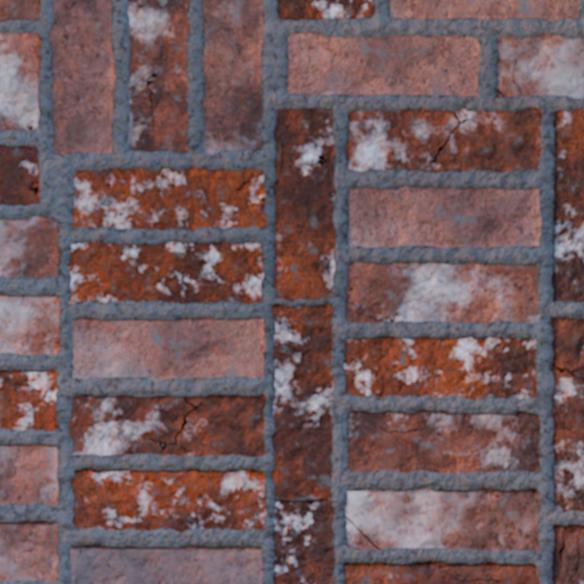brick: (272, 304, 333, 583), (346, 108, 541, 171), (287, 33, 479, 96), (346, 488, 539, 550), (69, 395, 265, 456), (348, 410, 539, 472), (68, 242, 262, 303), (71, 470, 265, 531), (72, 168, 265, 229), (344, 337, 536, 398), (348, 262, 538, 323), (72, 319, 264, 379), (274, 108, 334, 300), (348, 188, 540, 247), (49, 0, 114, 154), (128, 0, 188, 151), (203, 0, 261, 153), (70, 546, 262, 583), (552, 109, 583, 301), (497, 34, 583, 98), (552, 367, 583, 512), (344, 561, 539, 583), (0, 33, 40, 130), (390, 0, 578, 20), (0, 217, 59, 277), (0, 296, 59, 354), (0, 445, 58, 504), (0, 522, 58, 580), (0, 370, 56, 430), (0, 145, 38, 204), (278, 0, 374, 19), (552, 525, 583, 583), (552, 318, 583, 368), (0, 0, 39, 21), (347, 521, 375, 549), (346, 304, 376, 322), (552, 525, 563, 568), (456, 110, 463, 119), (575, 370, 583, 376)
crack: (149, 397, 203, 453), (429, 109, 479, 163), (346, 284, 400, 322), (345, 515, 380, 550), (275, 331, 311, 358), (569, 525, 582, 581), (233, 170, 263, 191), (553, 527, 566, 571), (552, 363, 583, 381), (273, 141, 284, 188), (511, 58, 522, 95), (244, 195, 265, 211), (27, 180, 38, 197), (556, 140, 575, 146), (19, 145, 36, 150), (26, 124, 38, 130), (496, 89, 503, 97), (255, 497, 263, 501)
